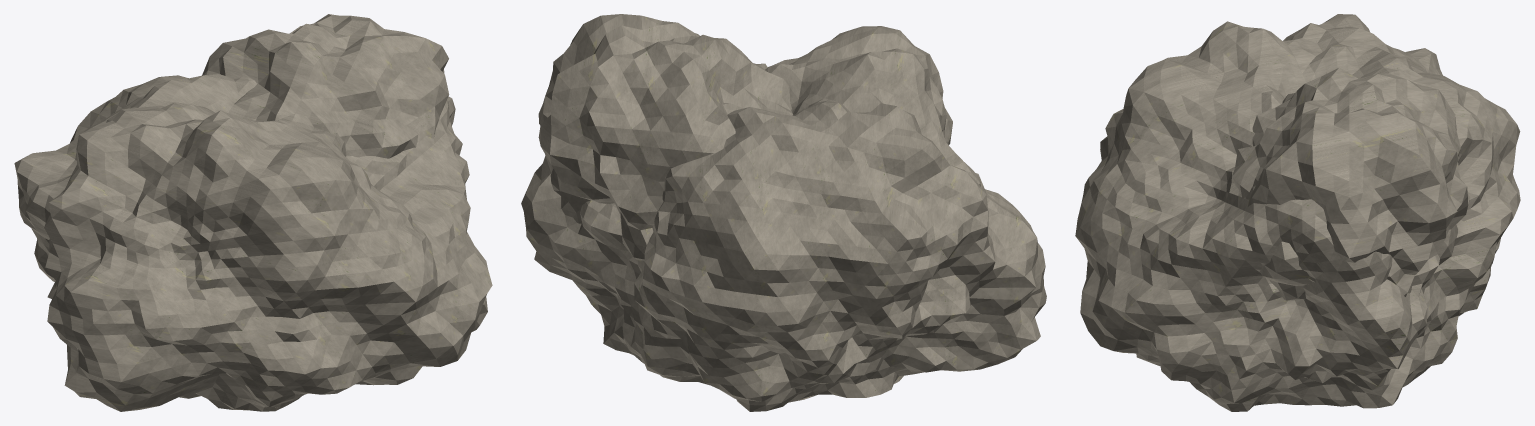
Rendered from HO_Rock_Cliff_L.fbx.
The picture shows the model from 3 angles, left to right: view 1: azimuth 30°, elevation 25°; view 2: azimuth 150°, elevation 25°; view 3: azimuth 270°, elevation 25°; orthographic projection. The views are drawn at different scales.
Visible parts, largest first — view 1: HO_Rock_Cliff_L; view 2: HO_Rock_Cliff_L; view 3: HO_Rock_Cliff_L.
Part boxes in pixels (x1,y1,x2,y2): HO_Rock_Cliff_L: (14,14,492,411); HO_Rock_Cliff_L: (521,14,1046,411); HO_Rock_Cliff_L: (1075,14,1520,411).
Bounding box in the file's own units: 30.94 × 19.98 × 26.53.
